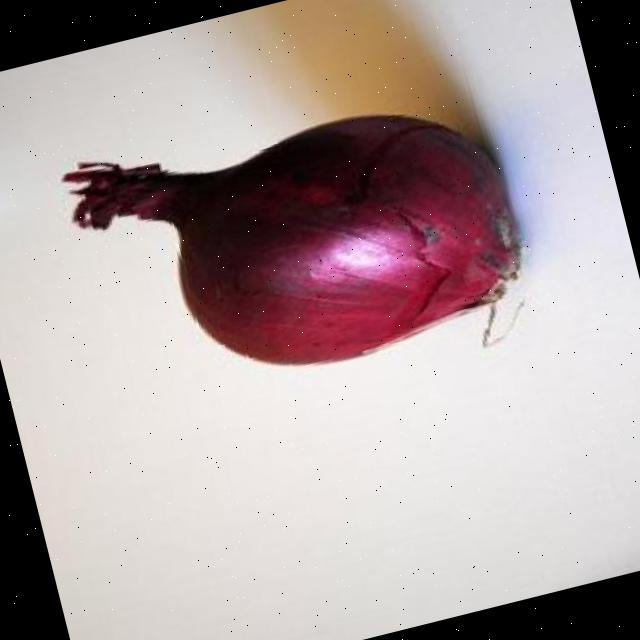Onion: (62, 113, 520, 363)
